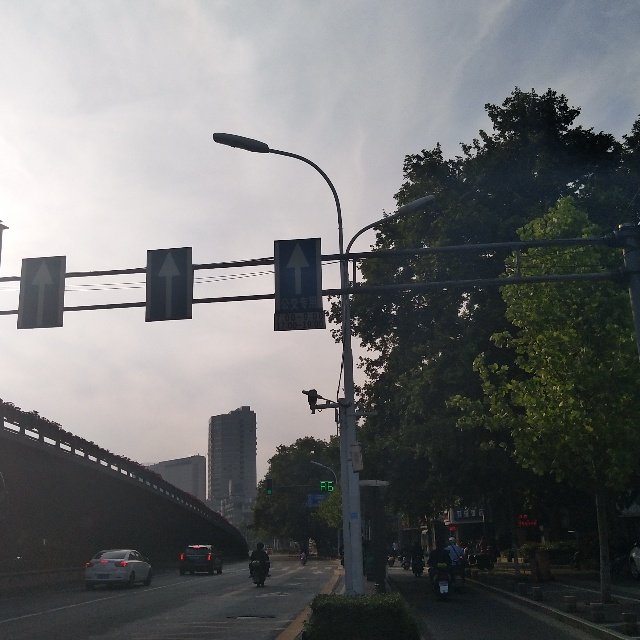straight: (19, 253, 69, 336), (144, 245, 196, 322)
